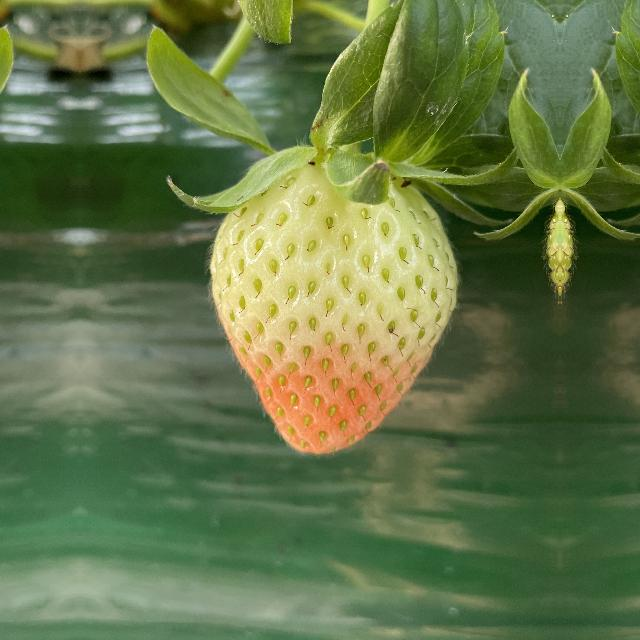Health_50: (213, 154, 462, 456)
